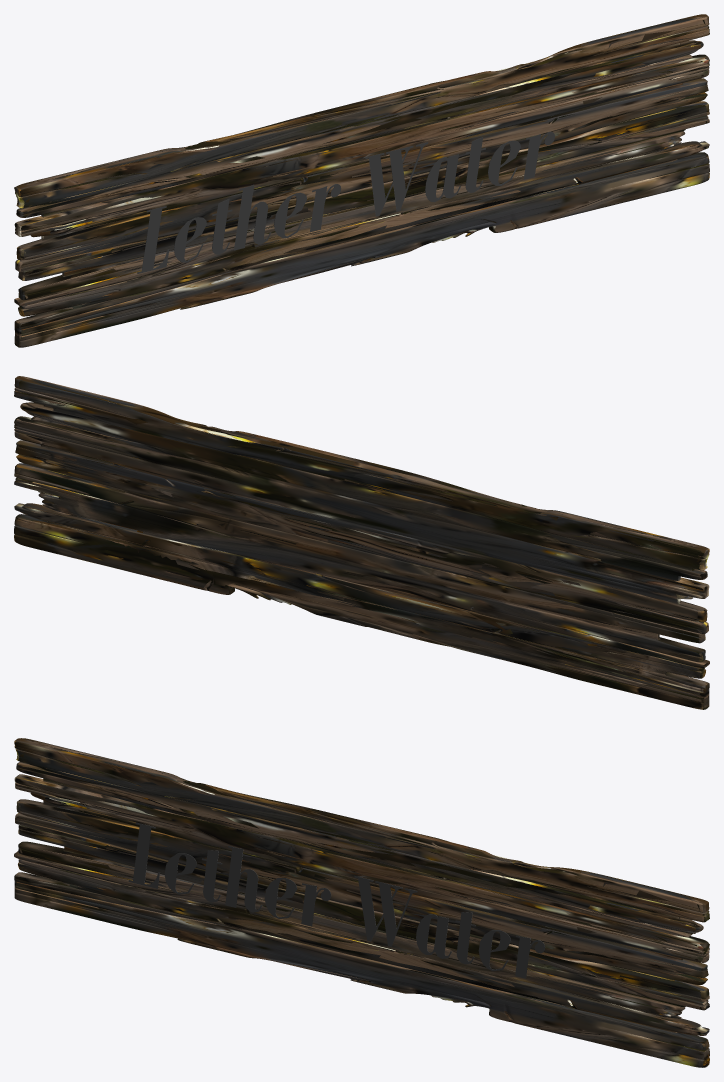
The model's file is Signboard.obj.
3 renders of one model, top to bottom at view 1: azimuth 30°, elevation 25°; view 2: azimuth 150°, elevation 25°; view 3: azimuth 330°, elevation 25°, orthographic.
Visible parts, largest first — view 1: node_0, 文本; view 2: node_0; view 3: node_0, 文本.
Boxes of the visible parts, x1,y1,x2,y2 form: node_0: (14, 14, 709, 347); 文本: (137, 131, 554, 273); node_0: (14, 376, 709, 709); node_0: (14, 738, 709, 1067); 文本: (128, 822, 545, 978).
Size of the model in its own units: 3.52 by 0.8071 by 0.0756.
